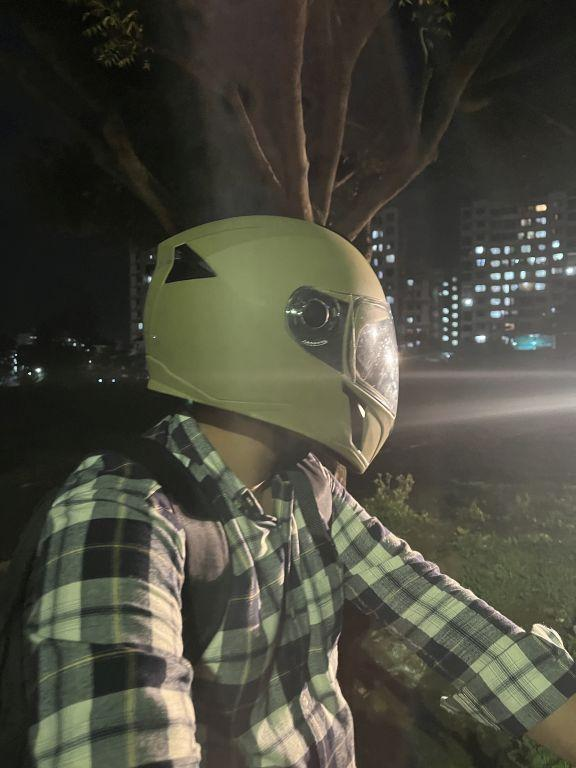helmet: (125, 204, 408, 487)
